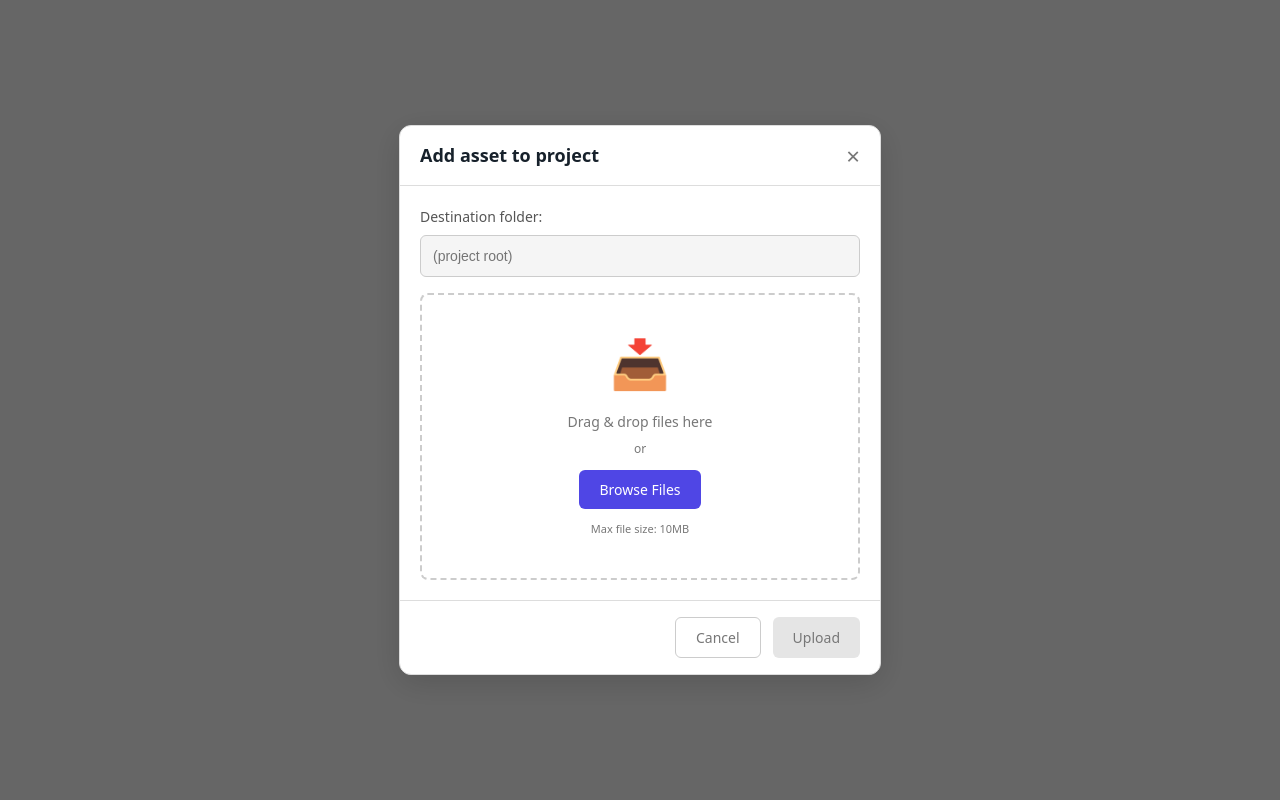
NewAssetDialog › destination validation › reports an error for leading slash
In the field labelled "Destination folder:": (640, 256) [420,235,860,277], type "/images"
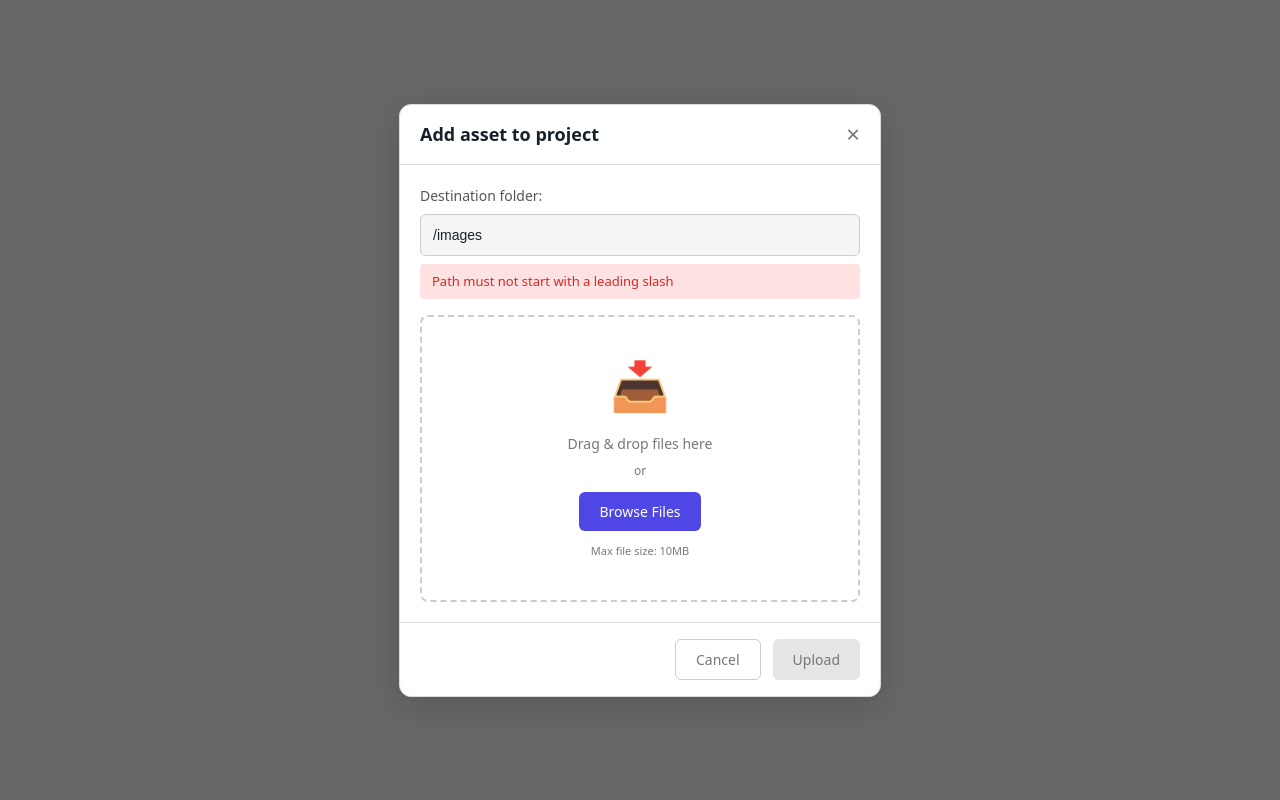
Now the text "Path must not start with a leading slash" is shown, box [420,264,860,299]
